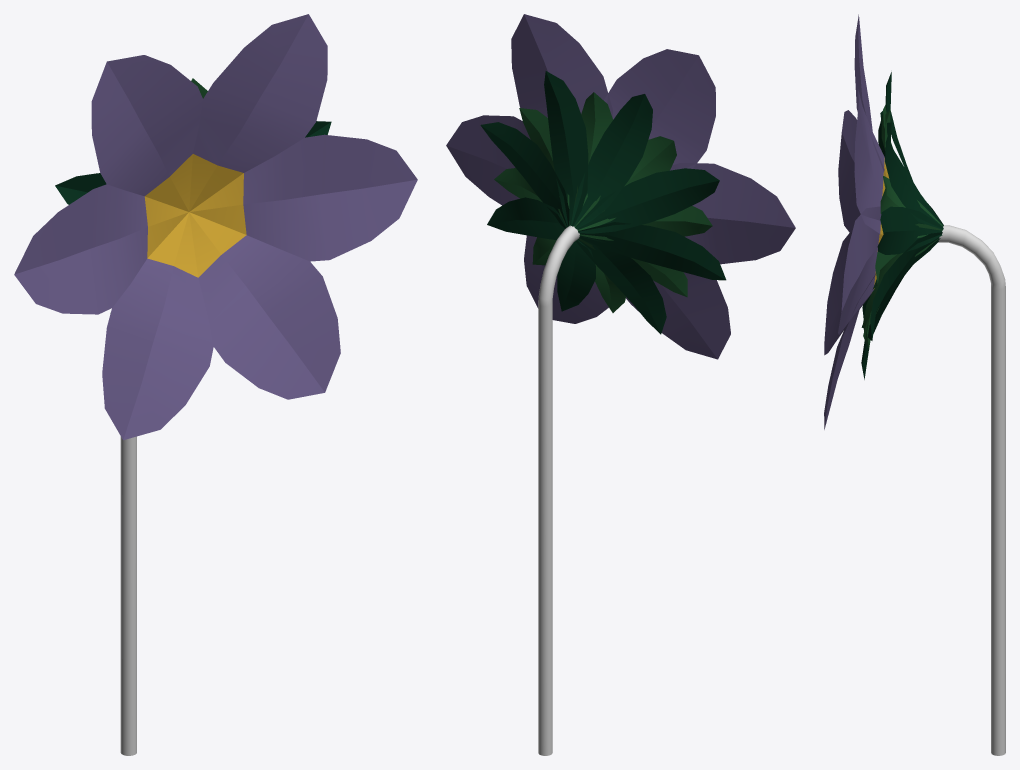
File: basic_flower.fbx
3 views of the same model, side by side, from view 1: azimuth 30°, elevation 25°; view 2: azimuth 150°, elevation 25°; view 3: azimuth 270°, elevation 25° (orthographic). The views are drawn at different scales.
Parts seen in each view (by area): view 1: basicpetals, basicstem; view 2: basicpetals, basicstem; view 3: basicpetals, basicstem.
Part boxes in pixels (box(x1,y1,x2,y2)): basicpetals: box(14, 14, 417, 440); basicstem: box(120, 436, 136, 755); basicpetals: box(446, 14, 795, 359); basicstem: box(538, 225, 579, 755); basicpetals: box(824, 14, 943, 429); basicstem: box(938, 225, 1005, 755).
Bounding box in the file's own units: 149 × 273 × 64.63.
